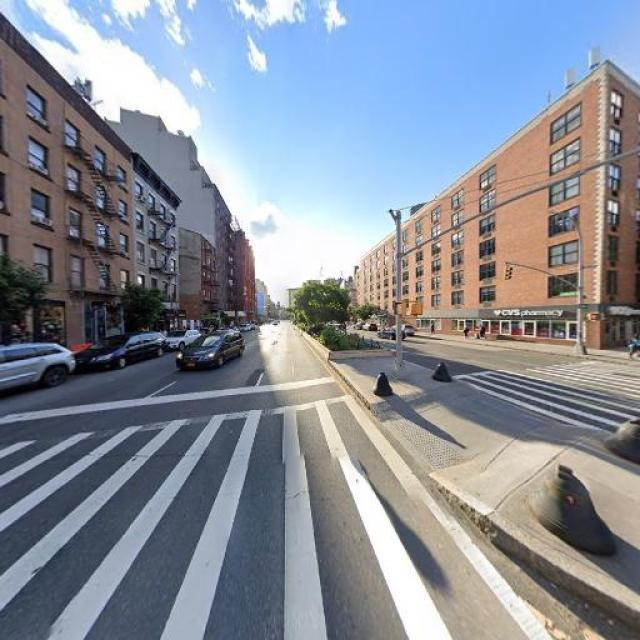Building: (362, 60, 640, 354), (1, 12, 132, 355)
